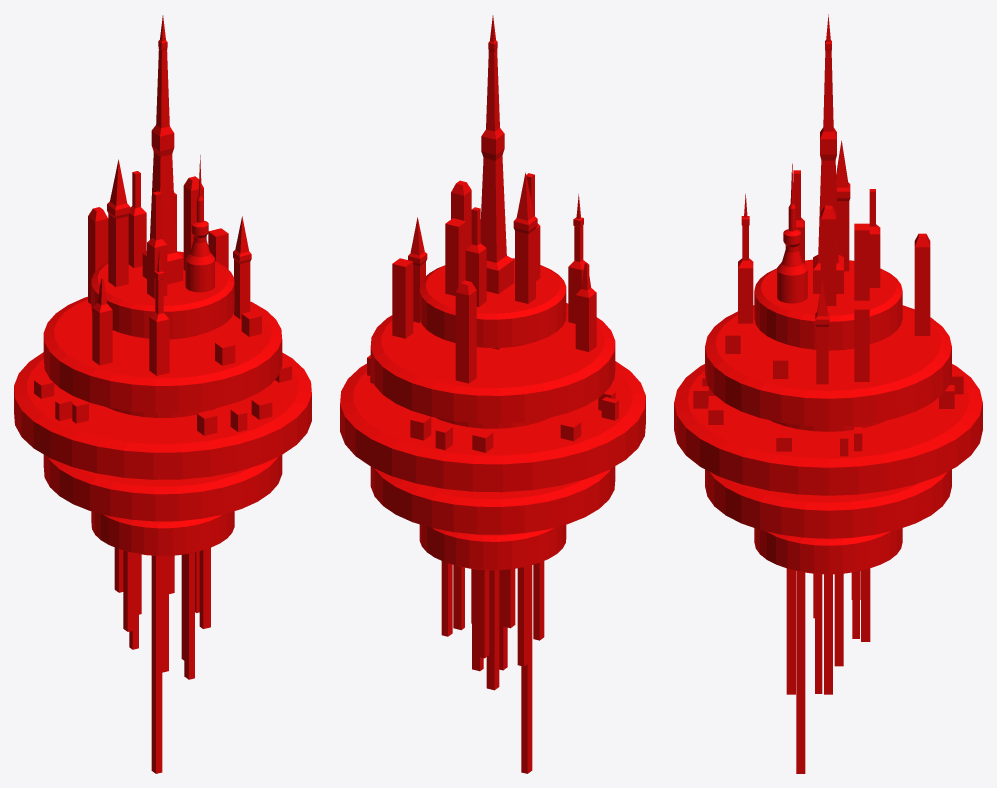
The model's file is EnemyCity2.fbx.
3 views of the same model, side by side, from view 1: azimuth 30°, elevation 25°; view 2: azimuth 150°, elevation 25°; view 3: azimuth 270°, elevation 25° (orthographic). The views are drawn at different scales.
Parts seen in each view (by area): view 1: Cylinder; view 2: Cylinder; view 3: Cylinder.
Boxes of the visible parts, <box> form: Cylinder: <box>14,15,311,773</box>; Cylinder: <box>340,15,645,773</box>; Cylinder: <box>674,14,982,773</box>.
Size of the model in its own units: 400 by 1098 by 400.
